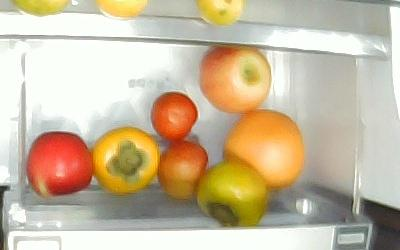apple: (198, 45, 271, 113), (25, 129, 93, 197)
grapefruit: (222, 107, 305, 188)
persimmon: (194, 158, 268, 227), (89, 125, 161, 195)
prune: (155, 139, 208, 199), (149, 90, 198, 141)
